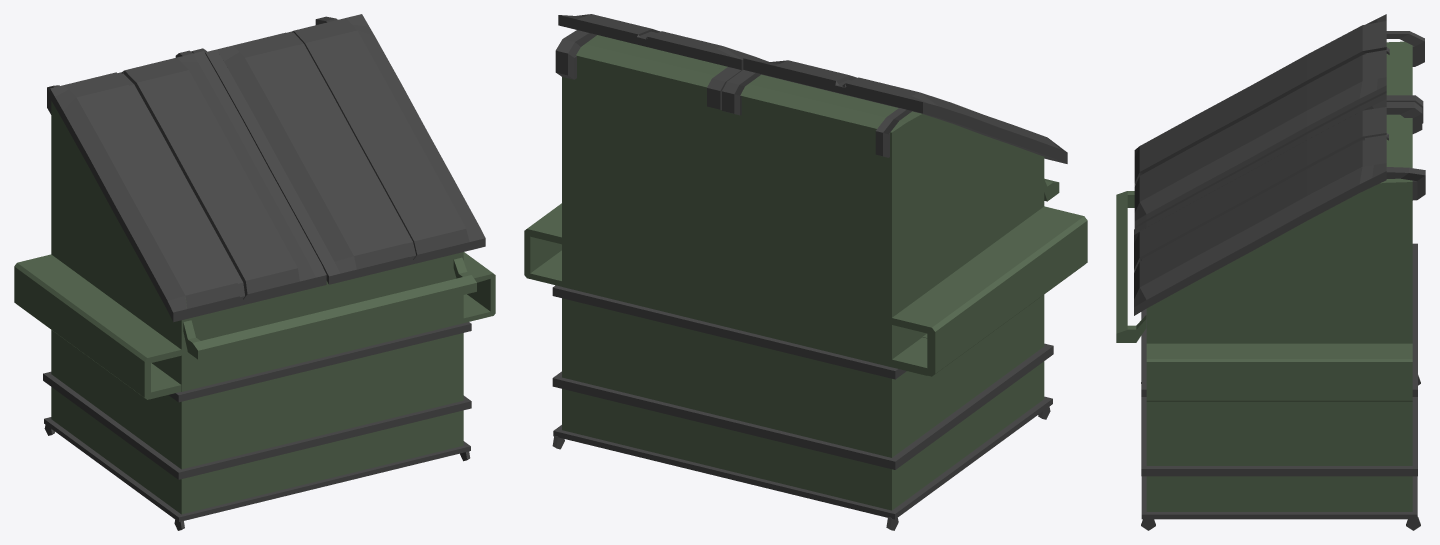
Rendered from SM_Trashcart.fbx.
The picture shows the model from 3 angles, left to right: view 1: azimuth 30°, elevation 25°; view 2: azimuth 150°, elevation 25°; view 3: azimuth 270°, elevation 25°; orthographic projection. The views are drawn at different scales.
Parts seen in each view (by area): view 1: pCube3; view 2: pCube3; view 3: pCube3.
Boxes of the visible parts, box(x1,y1,x2,y2) form: pCube3: box(14, 14, 495, 530); pCube3: box(524, 14, 1087, 530); pCube3: box(1116, 14, 1425, 530).
Bounding box in the file's own units: 6.21 × 6.08 × 4.63.
